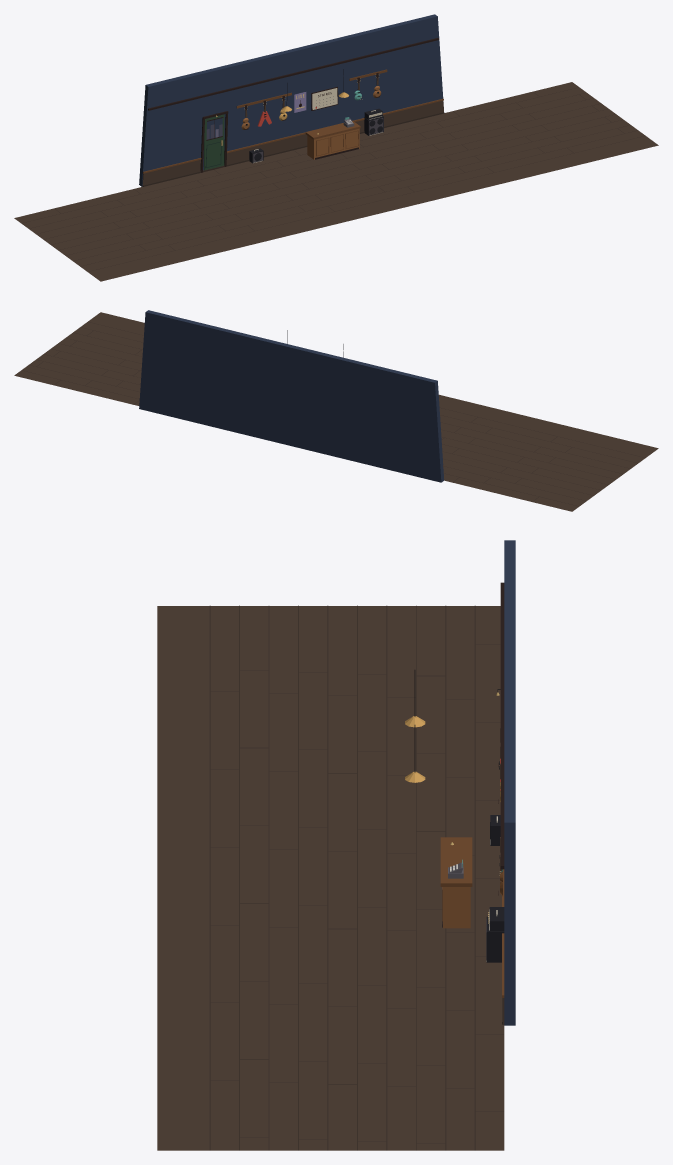
The model's file is music-shop.glb.
3 views of the same model, one above another, from view 1: azimuth 30°, elevation 25°; view 2: azimuth 150°, elevation 25°; view 3: azimuth 270°, elevation 25° (orthographic). The views are drawn at different scales.
Visible parts, largest first — view 1: music-shop, floor, door, strings; view 2: music-shop, floor; view 3: music-shop, floor.
Part boxes in pixels (<box>): music-shop: <box>22,14,658,281</box>; floor: <box>14,82,612,247</box>; door: <box>200,111,228,172</box>; strings: <box>311,86,338,110</box>; music-shop: <box>21,310,658,506</box>; floor: <box>14,346,612,511</box>; music-shop: <box>157,540,515,1150</box>; floor: <box>340,606,504,1150</box>.
Bounding box in the file's own units: 28 × 4.71 × 7.79.
